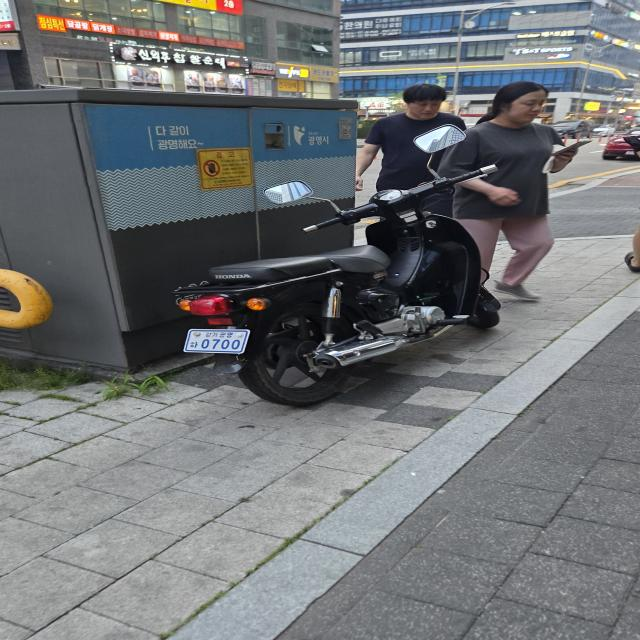motorcycle: (151, 138, 539, 413)
